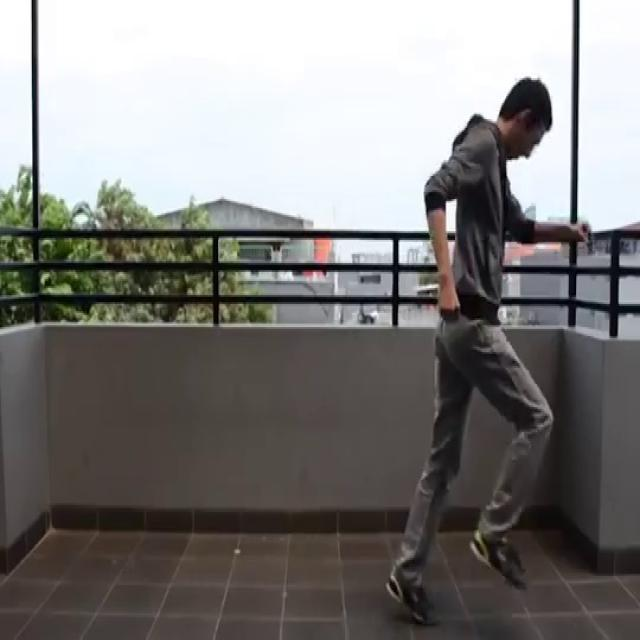normal: (382, 73, 560, 640)
